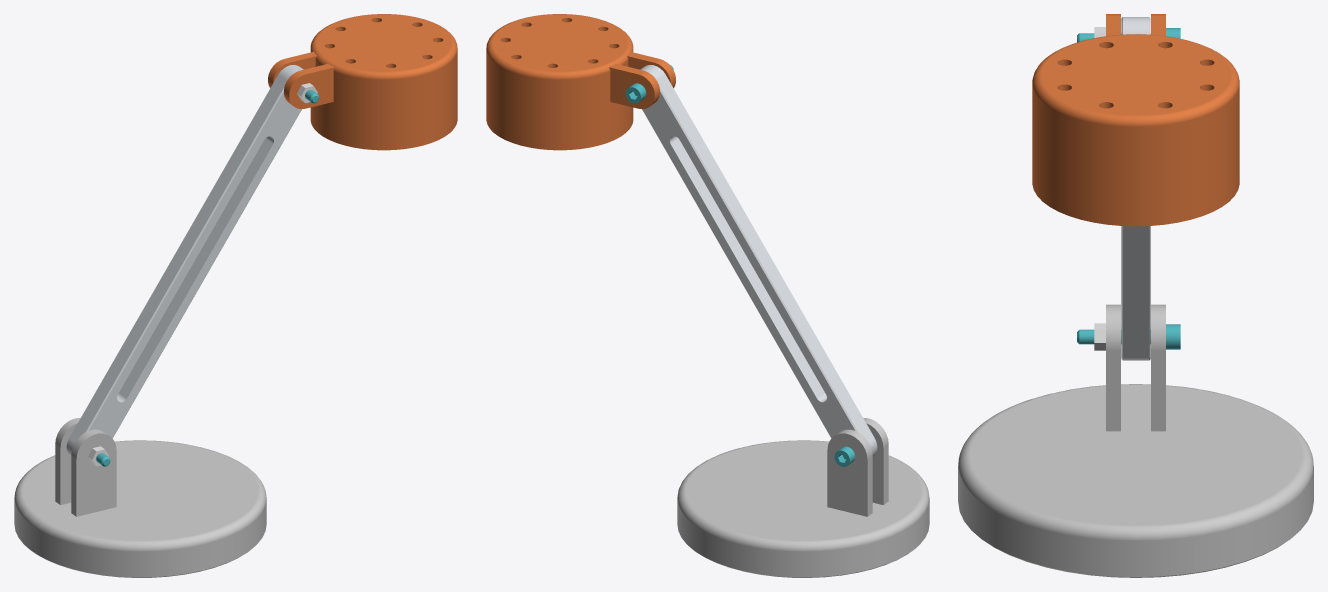
Rendered from desk_lamp_work_instructions.glb.
3 views of the same model, side by side, from view 1: azimuth 30°, elevation 25°; view 2: azimuth 150°, elevation 25°; view 3: azimuth 270°, elevation 25° (orthographic). The views are drawn at different scales.
Parts seen in each view (by area): view 1: base, arm_assembly/head_assembly/head, arm_assembly/arm; view 2: base, arm_assembly/head_assembly/head, arm_assembly/arm; view 3: base, arm_assembly/head_assembly/head, arm_assembly/arm, m5x30_screw:base_hinge.
Part boxes in pixels (x1,y1,x2,y2): base: (14, 418, 266, 577); arm_assembly/head_assembly/head: (268, 14, 457, 150); arm_assembly/arm: (66, 65, 303, 456); base: (677, 418, 929, 577); arm_assembly/head_assembly/head: (486, 14, 675, 150); arm_assembly/arm: (640, 65, 877, 456); base: (958, 304, 1313, 577); arm_assembly/head_assembly/head: (1032, 14, 1239, 226); arm_assembly/arm: (1121, 17, 1150, 360); m5x30_screw:base_hinge: (1077, 324, 1180, 349).
Bounding box in the file's own units: 0.2287 × 0.2218 × 0.12.
